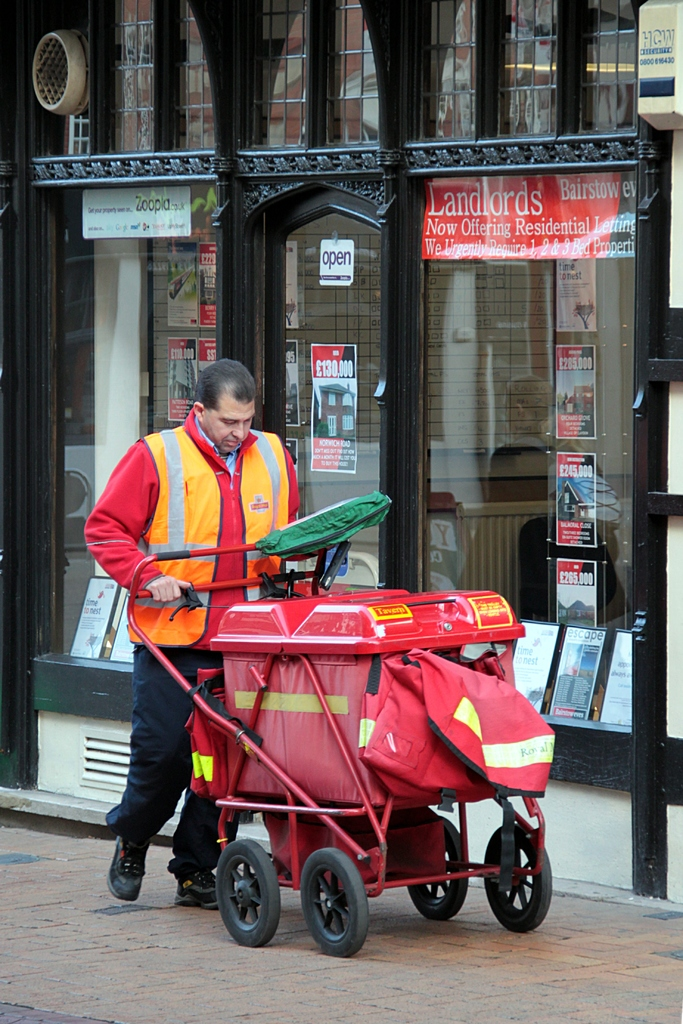Person: (83, 356, 300, 909)
